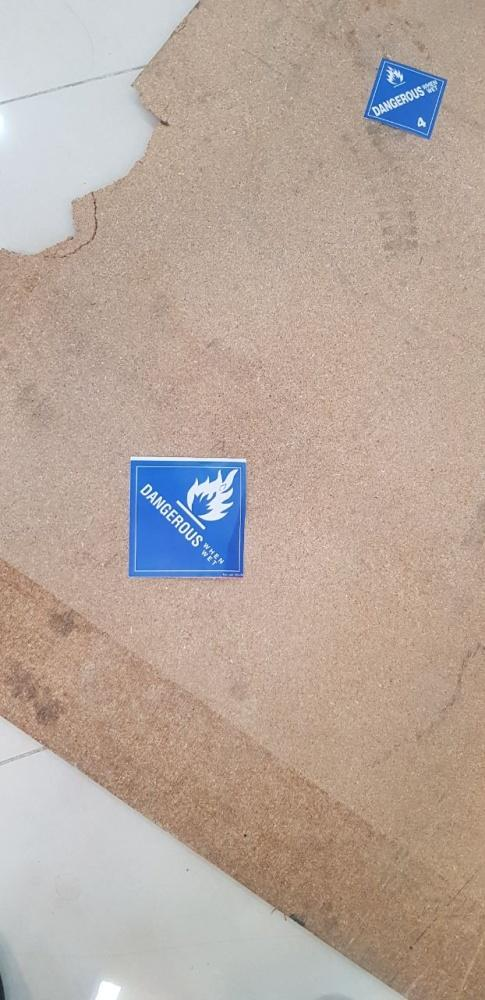dangerous-when-wet: (129, 463, 245, 578), (363, 58, 450, 142)
